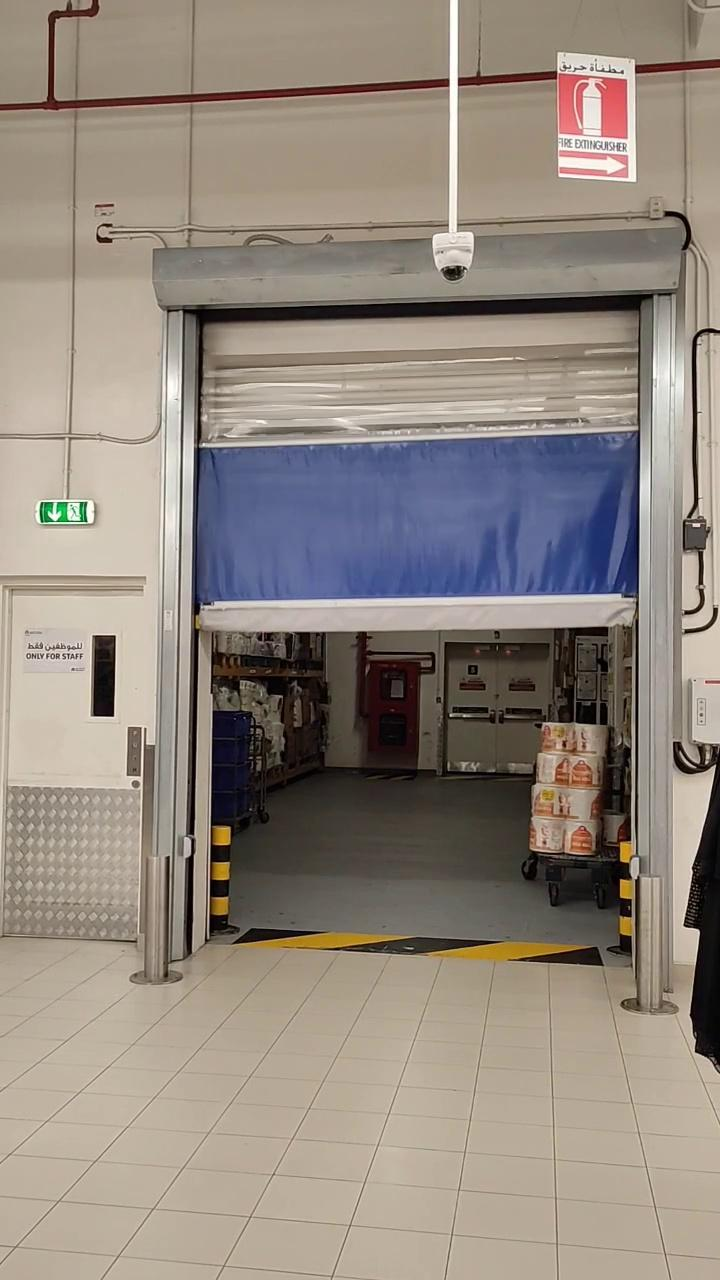Strip: (236, 923, 599, 971)
